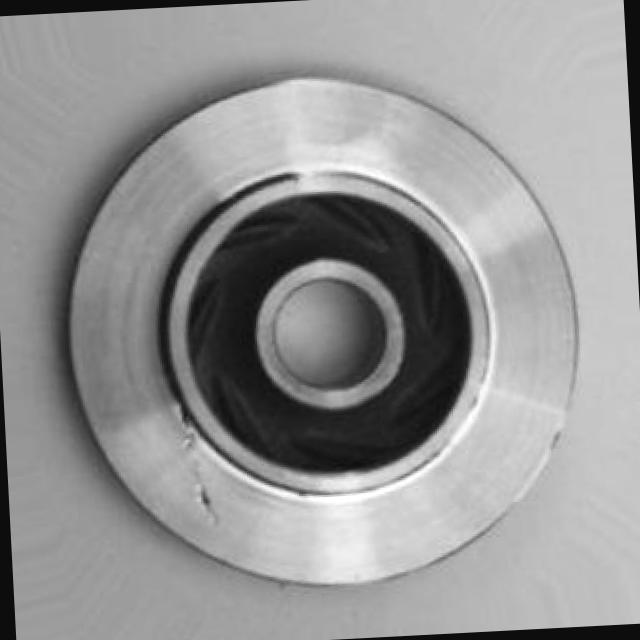Defect: (190, 474, 223, 522)
